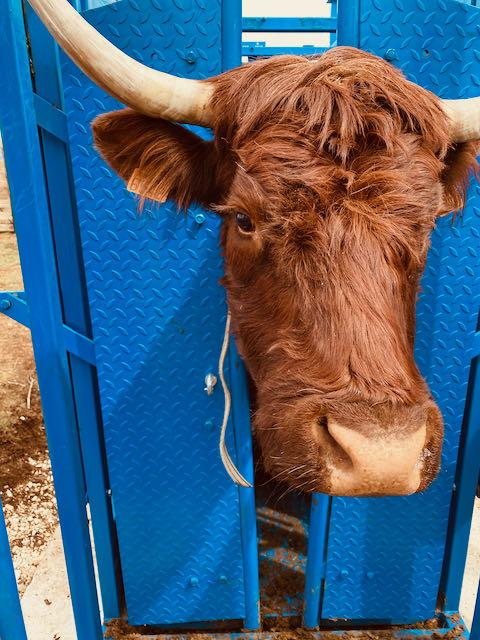muzzles: (269, 392, 448, 504)
